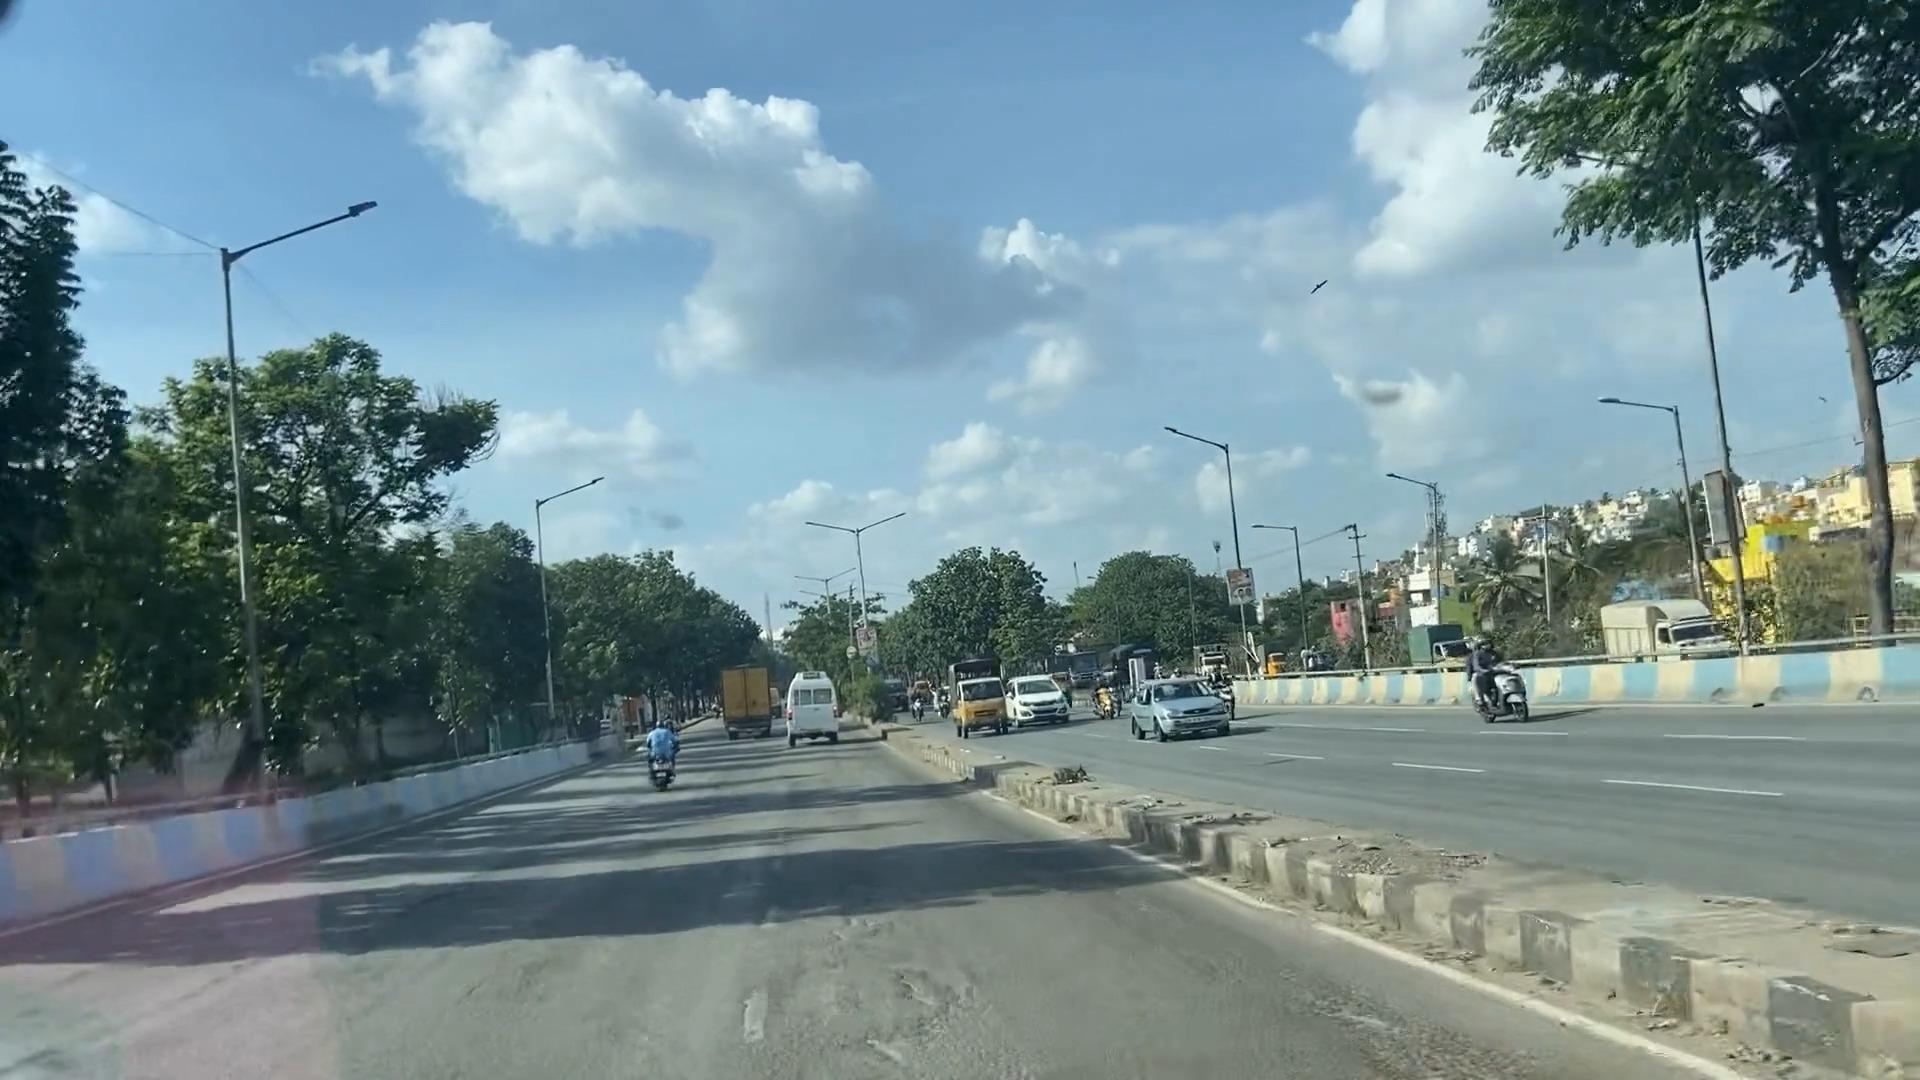HMV: (786, 663, 850, 763), (717, 659, 776, 746)
LMV: (640, 729, 683, 797)
RoadDamages: (241, 899, 790, 1080), (644, 873, 1019, 1080), (1093, 957, 1453, 1080)
